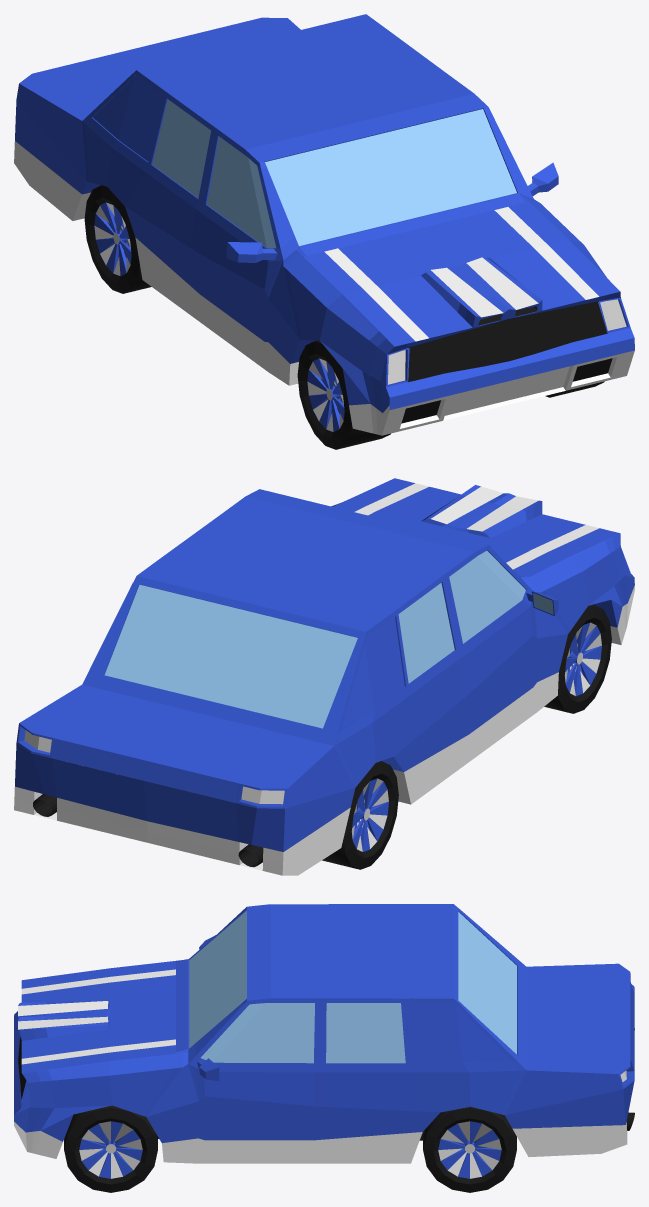
File: Car.fbx
3 views of the same model, one above another, from view 1: azimuth 30°, elevation 25°; view 2: azimuth 150°, elevation 25°; view 3: azimuth 270°, elevation 25° (orthographic). The views are drawn at different scales.
Parts seen in each view (by area): view 1: Auto, Voorwiel Rechts, Achterwiel Rechts; view 2: Auto, Achterwiel Rechts, Voorwiel Rechts; view 3: Auto, Voorwiel Links, Achterwiel Links.
Boxes of the visible parts, x1,y1,x2,y2 form: Auto: (14, 14, 634, 435); Voorwiel Rechts: (297, 340, 390, 449); Achterwiel Rechts: (84, 185, 151, 293); Auto: (14, 478, 634, 875); Achterwiel Rechts: (322, 761, 398, 869); Voorwiel Rechts: (544, 604, 611, 713); Auto: (14, 904, 634, 1163); Voorwiel Links: (64, 1105, 157, 1192); Achterwiel Links: (423, 1106, 516, 1192).
Bounding box in the file's own units: 588 × 382 × 1143.
